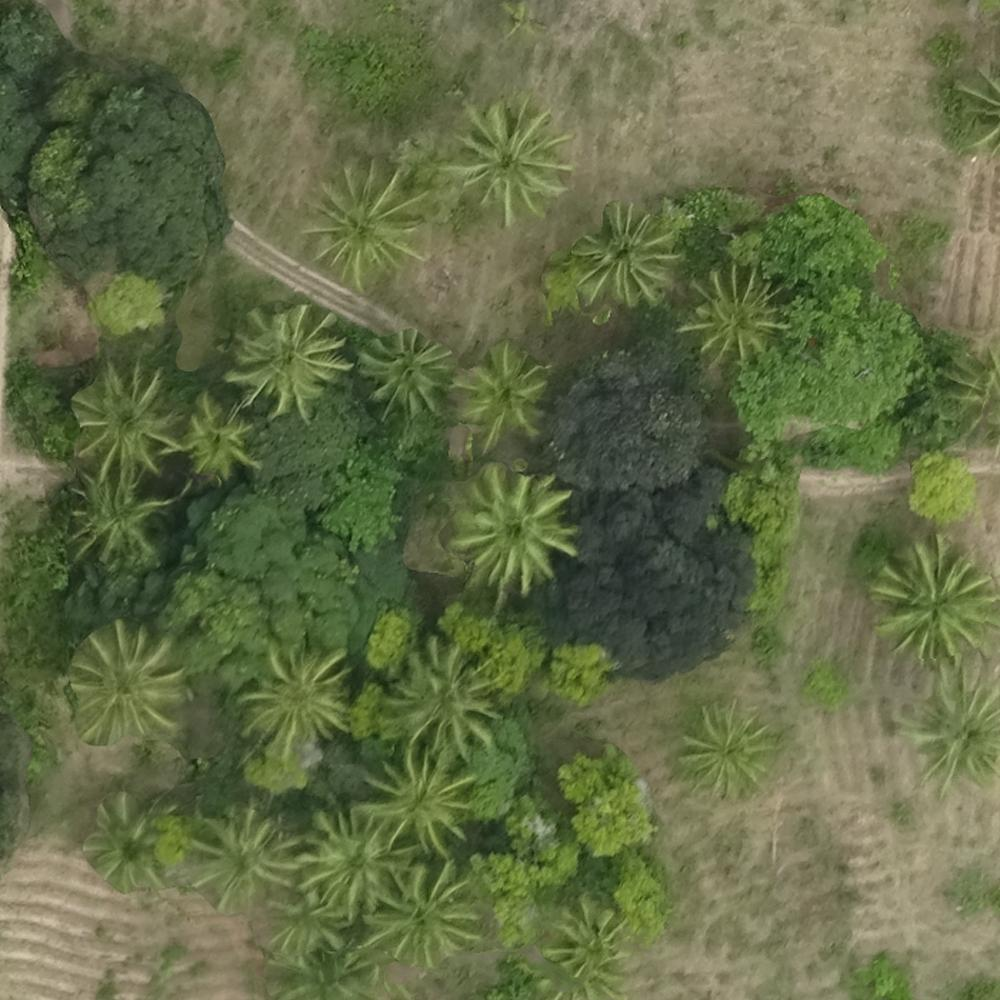Palm: (449, 462, 575, 585), (868, 543, 990, 666), (448, 100, 566, 215), (310, 163, 427, 276), (71, 624, 184, 741), (394, 639, 504, 750), (363, 752, 474, 852), (367, 863, 474, 965), (72, 367, 174, 472), (297, 810, 405, 909), (186, 810, 295, 907), (236, 308, 337, 412), (681, 263, 786, 361), (246, 643, 347, 744), (904, 678, 1000, 783), (570, 209, 678, 298), (71, 466, 166, 563), (682, 702, 779, 795), (449, 349, 546, 440), (87, 800, 185, 886), (169, 392, 253, 481), (358, 331, 442, 414), (551, 899, 635, 979), (269, 882, 354, 957)
